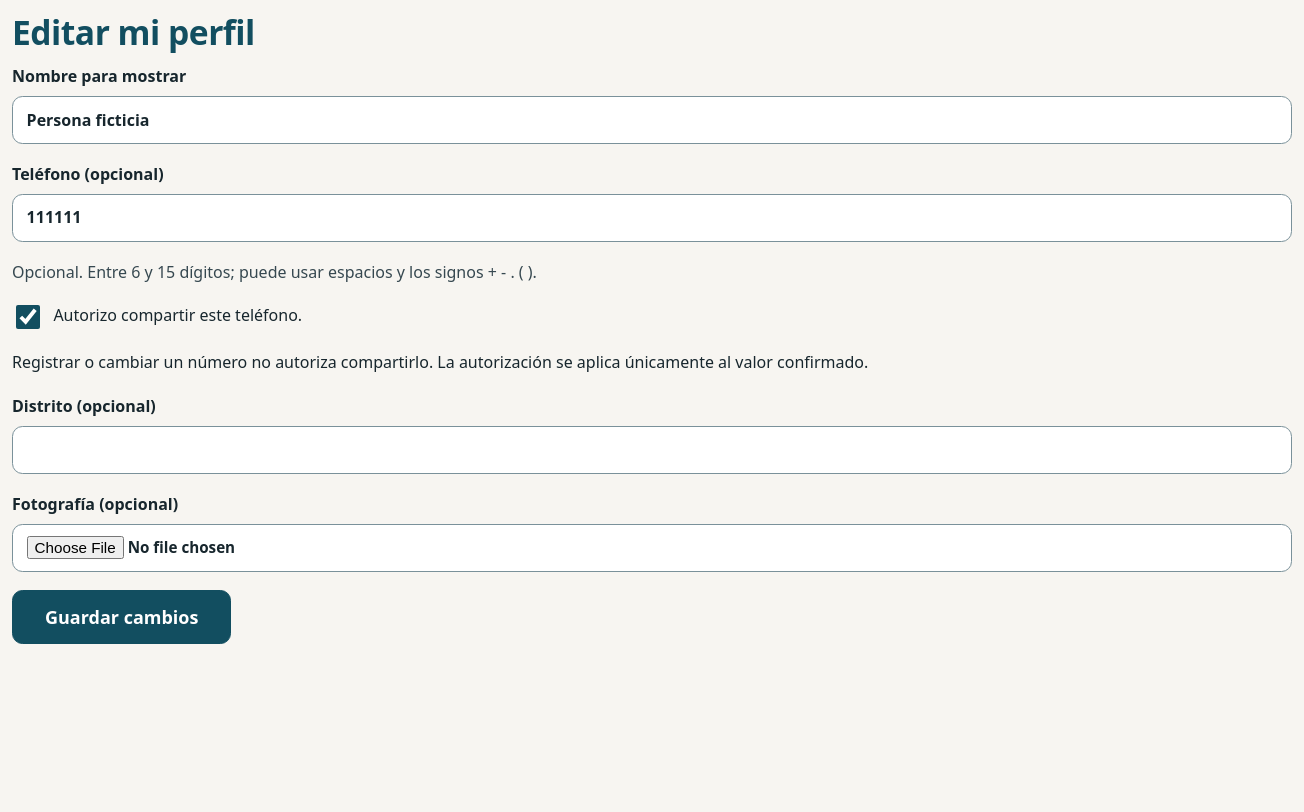
Test: CA-PER-07 teléfono con letras: error junto al campo, accesible y sin llamar al servidor; al corregirlo se guarda
Expected: the text "Opcional. Entre 6 y 15 dígitos; puede usar espacios y los signos + - . ( )." is shown, [12,261,537,283]
Replace the text in the field labelled "Teléfono (opcional)" with "984-ABC-1234": x=652, y=218 [12,194,1292,242]
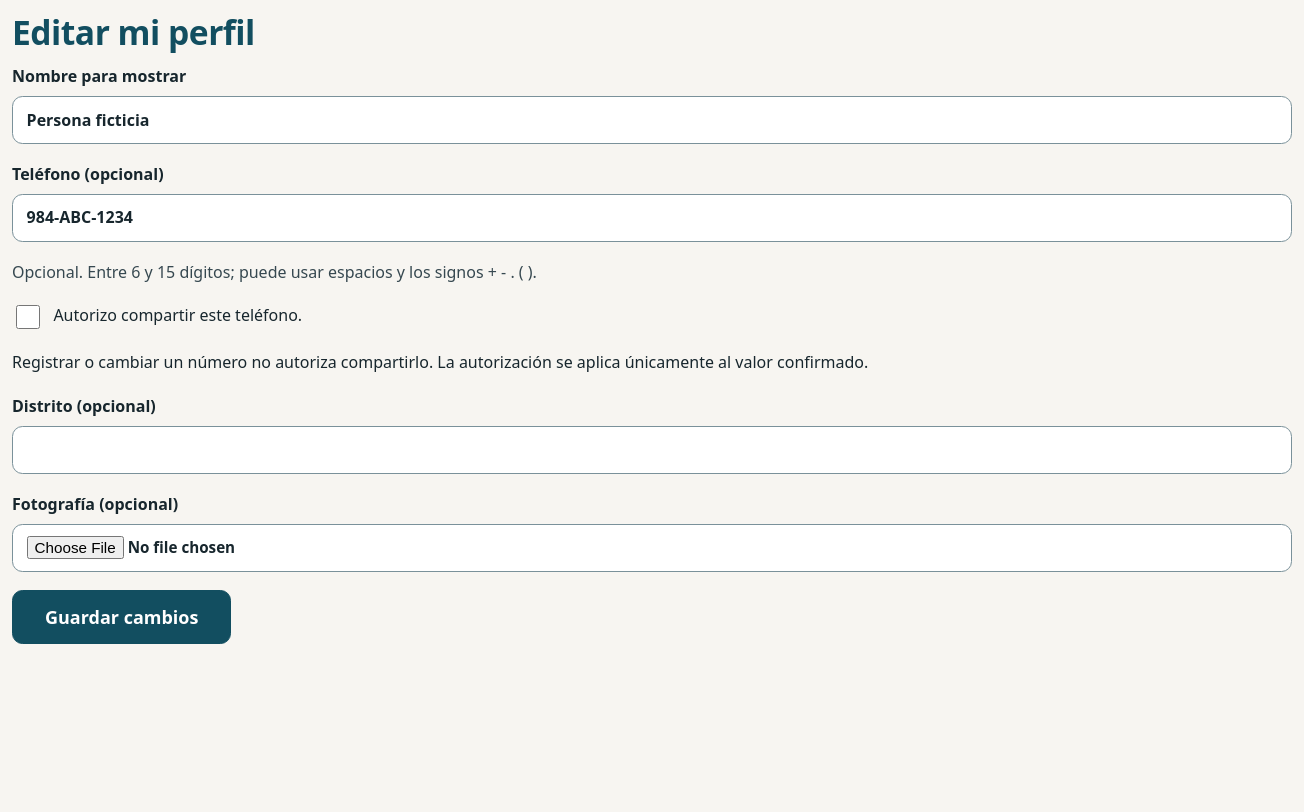
Click the button "Guardar cambios": x=122, y=617 [12,590,231,644]
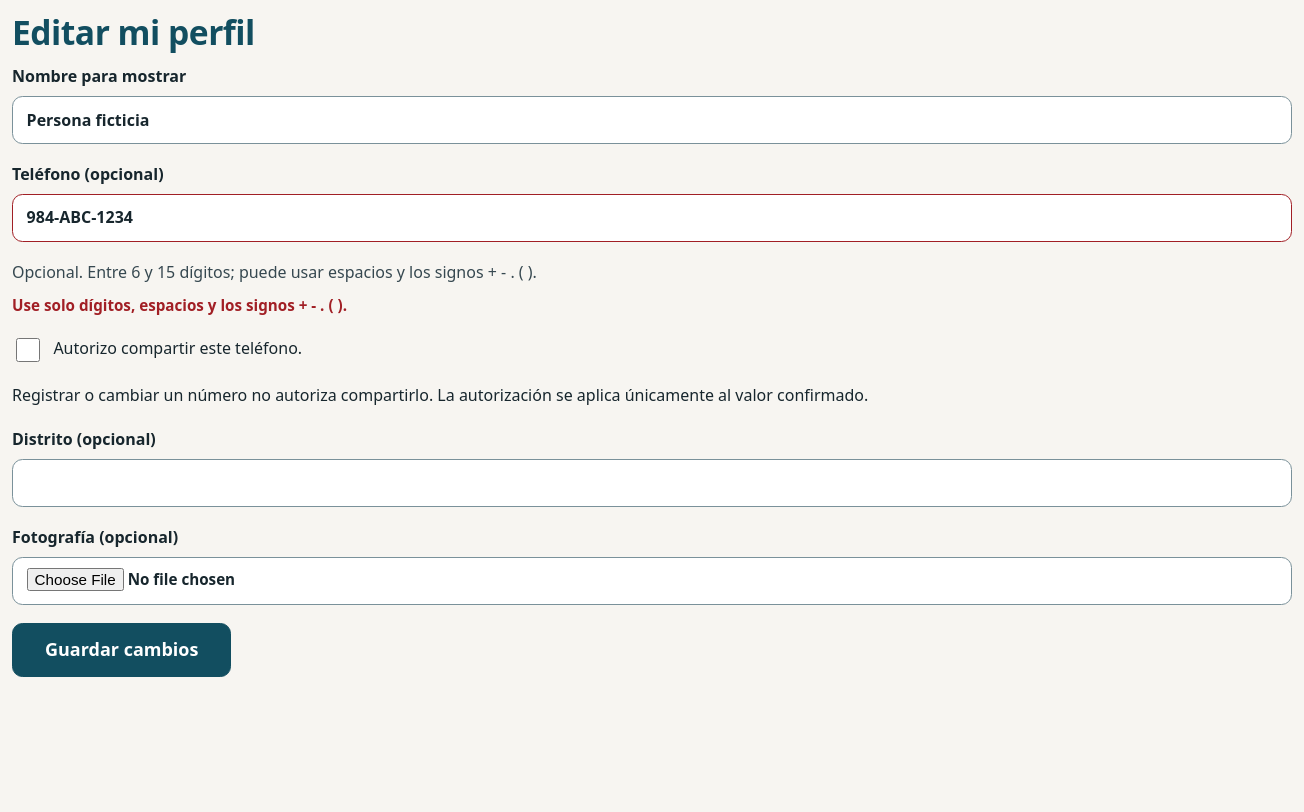
Expected: the text "Perfil actualizado." is not shown
Expected: the text "Use solo dígitos, espacios y los signos + - . ( )." is shown, [12,296,347,316]
Replace the text in the field labelled "Teléfono (opcional)" with "+51 (984) 123-456": x=652, y=218 [12,194,1292,242]
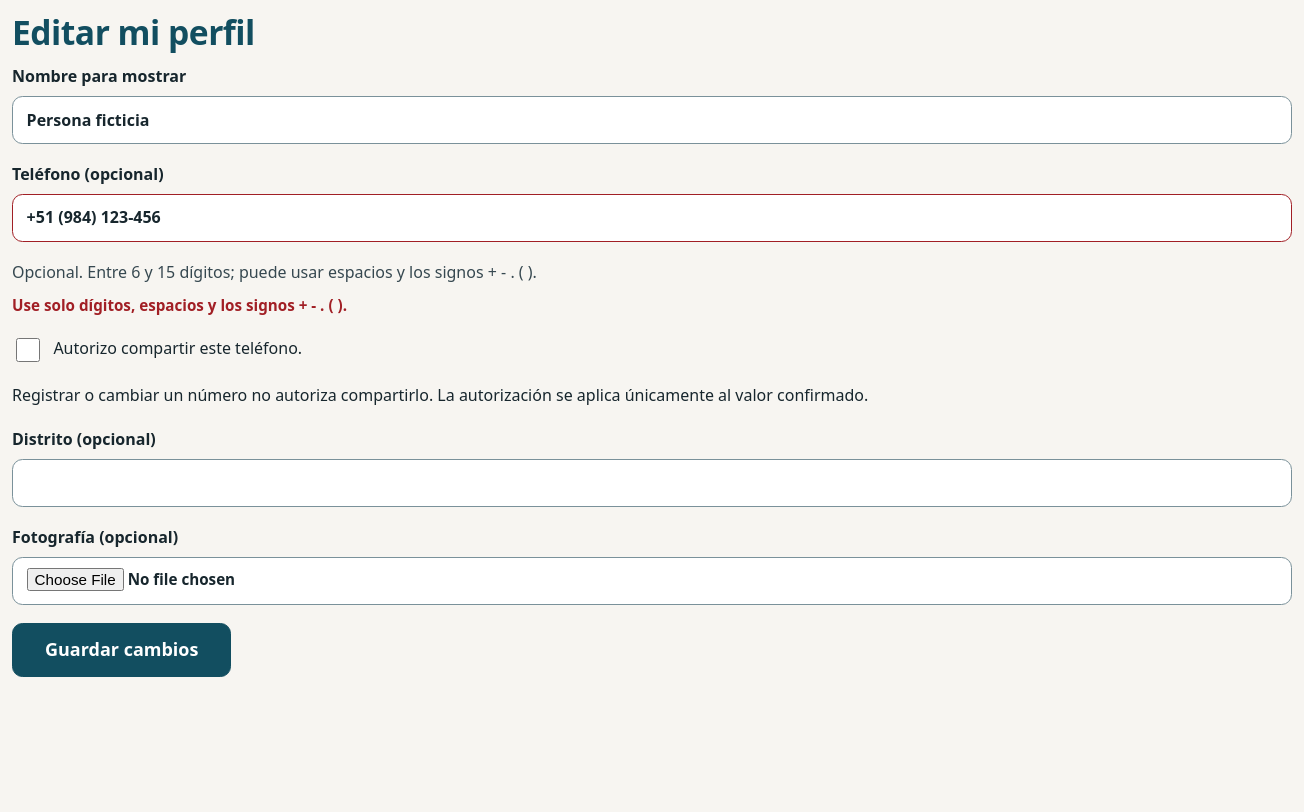
Click the button "Guardar cambios": x=122, y=650 [12,623,231,677]
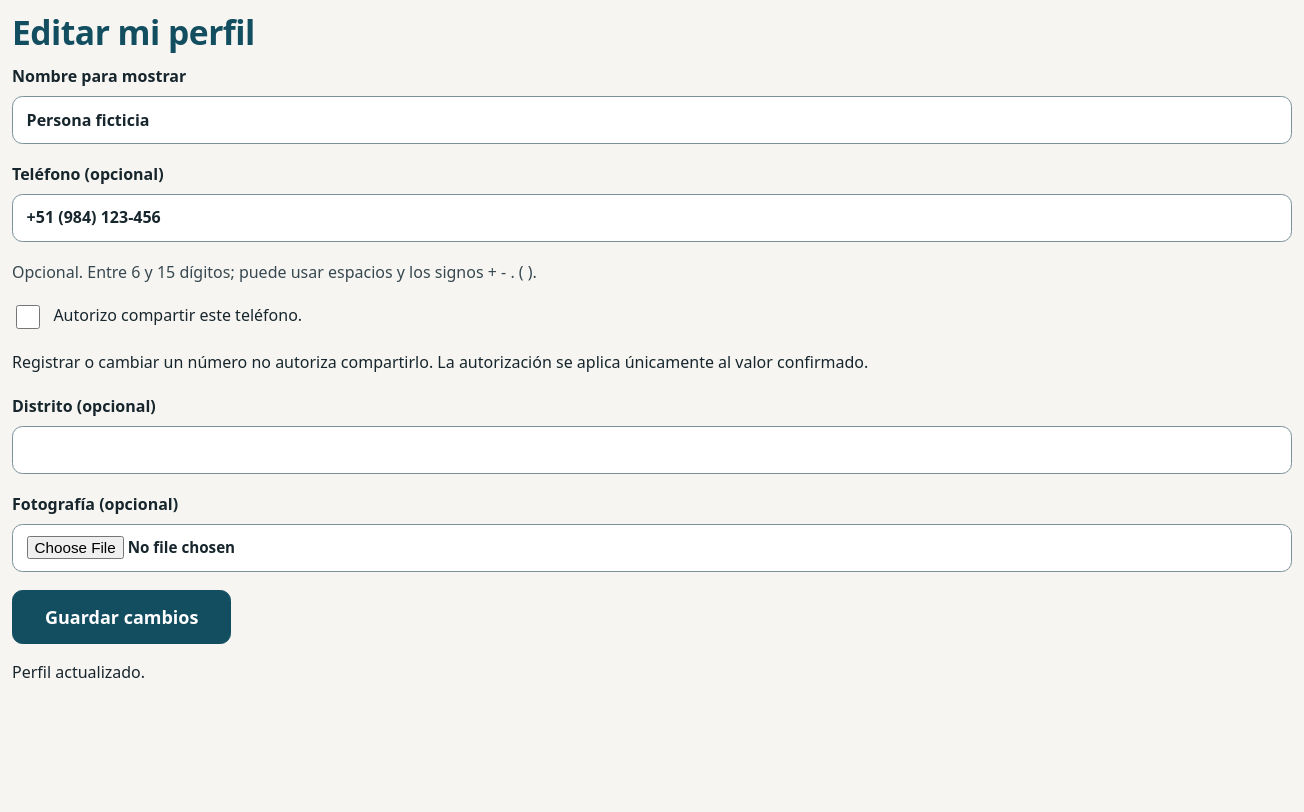
Expected: the text "Perfil actualizado." is shown, [12,661,145,683]
